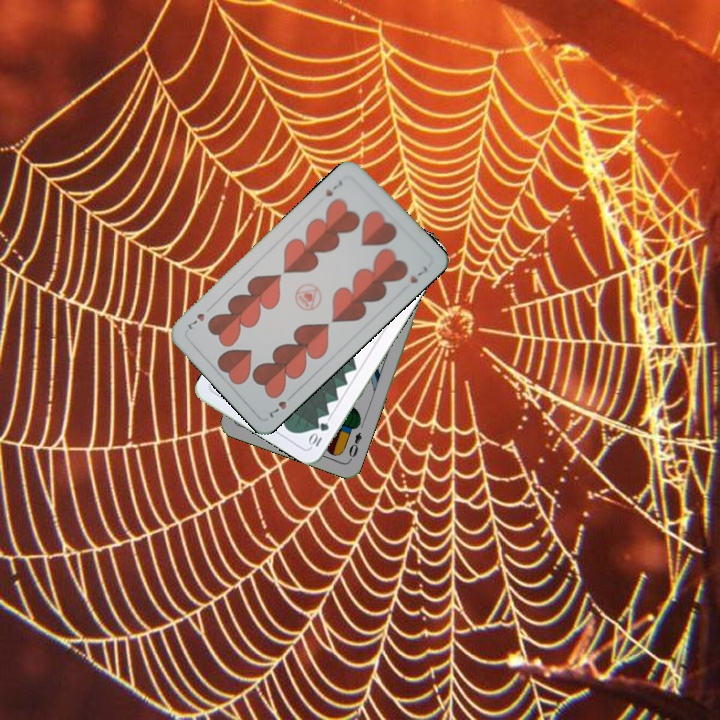EO: (345, 428, 364, 463)
G10: (305, 418, 332, 449)
H7: (265, 389, 297, 420), (321, 176, 345, 199)
